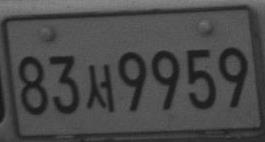3: (49, 54, 80, 115)
5: (185, 48, 216, 109)
8: (16, 55, 48, 114)
9: (217, 46, 249, 109), (116, 50, 147, 112), (150, 48, 180, 109)
서: (86, 63, 115, 113)
